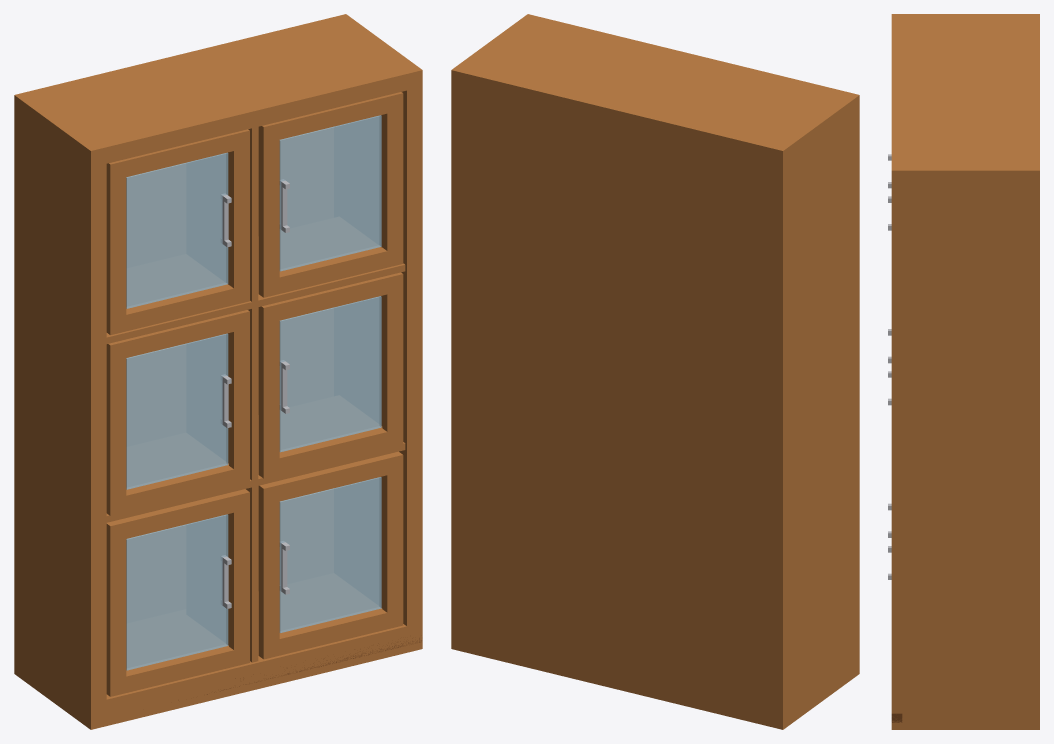
The model's file is glass_cabinet_wood.obj.
3 views of the same model, side by side, from view 1: azimuth 30°, elevation 25°; view 2: azimuth 150°, elevation 25°; view 3: azimuth 270°, elevation 25° (orthographic). The views are drawn at different scales.
Visible parts, largest first — view 1: Cabinet_left_side, Cabinet_top, Cabinet_right_side, Door_R_1_glass, Door_R_3_glass, Door_R_2_glass, Door_L_1_glass, Door_L_3_glass, Door_L_2_glass, Cabinet_bottom, Divider_vertical, Door_R_3_top (+25 smaller); view 2: Cabinet_back, Cabinet_left_side, Cabinet_top, Cabinet_right_side, Cabinet_bottom; view 3: Cabinet_right_side, Cabinet_top, Cabinet_left_side.
Boxes of the visible parts, x1,y1,x2,y2 form: Cabinet_left_side: (14, 91, 106, 729); Cabinet_top: (14, 14, 422, 166); Cabinet_right_side: (331, 14, 422, 652); Door_R_1_glass: (279, 115, 381, 271); Door_R_3_glass: (279, 477, 381, 632); Door_R_2_glass: (279, 296, 381, 452); Door_L_1_glass: (126, 152, 228, 308); Door_L_3_glass: (126, 514, 228, 670); Door_L_2_glass: (126, 333, 228, 489); Cabinet_bottom: (14, 591, 422, 728); Divider_vertical: (227, 127, 258, 662); Door_R_3_top: (258, 451, 403, 505); Cabinet_back: (467, 90, 767, 709); Cabinet_left_side: (767, 91, 859, 729); Cabinet_top: (451, 14, 859, 167); Cabinet_right_side: (451, 14, 543, 651); Cabinet_bottom: (451, 625, 859, 728); Cabinet_right_side: (891, 163, 1039, 729); Cabinet_top: (891, 14, 1039, 186); Cabinet_left_side: (891, 14, 1039, 21).
Size of the model in its own units: 1.05 by 1.75 by 0.43.
